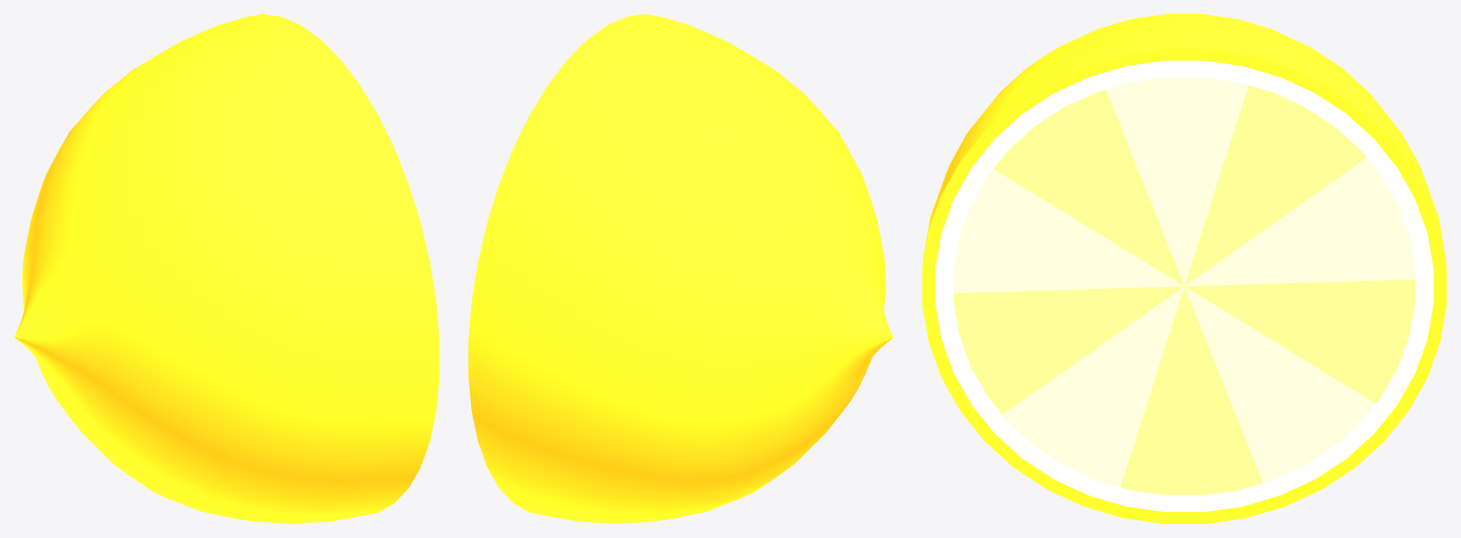
3 views of the same model, side by side, from view 1: azimuth 30°, elevation 25°; view 2: azimuth 150°, elevation 25°; view 3: azimuth 270°, elevation 25° (orthographic). The views are drawn at different scales.
Visible parts, largest first — view 1: Lemon-left; view 2: Lemon-left; view 3: Lemon-left.
Boxes of the visible parts, x1=… form: Lemon-left: x1=14, y1=14, x2=439, y2=523; Lemon-left: x1=468, y1=14, x2=893, y2=523; Lemon-left: x1=922, y1=14, x2=1446, y2=523.
Bounding box in the file's own units: 0.0258 × 0.0386 × 0.0386.
